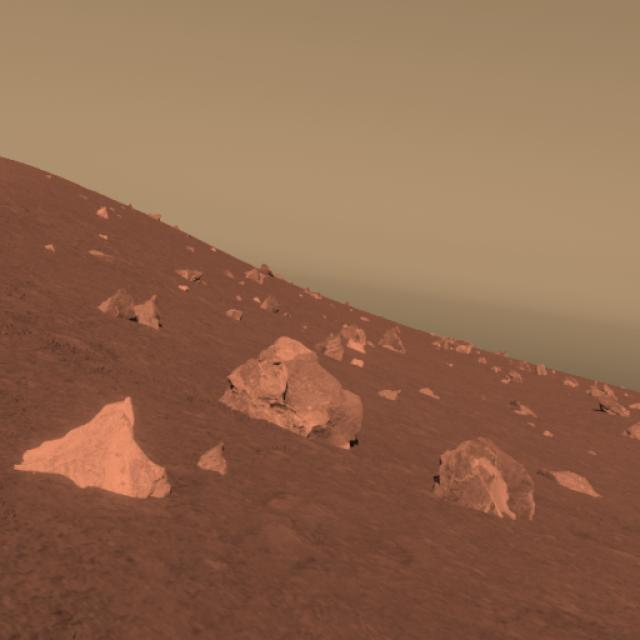rock: (13, 389, 174, 504), (218, 331, 366, 452), (427, 431, 538, 527)
